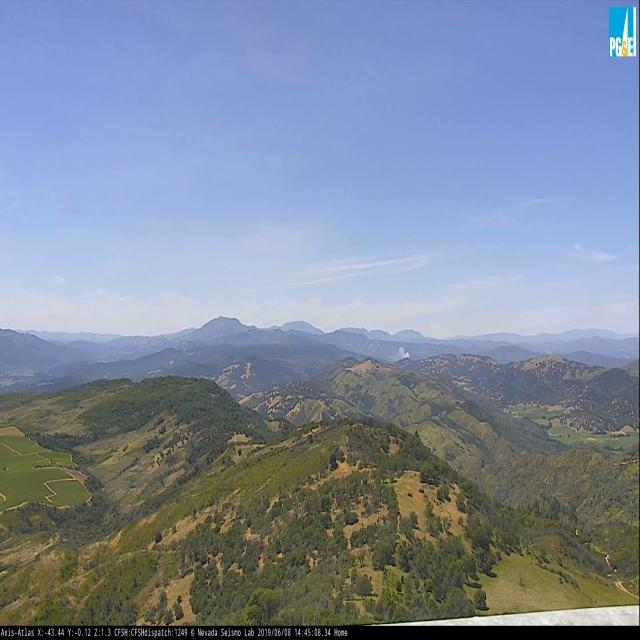smoke: (397, 342, 411, 362)
